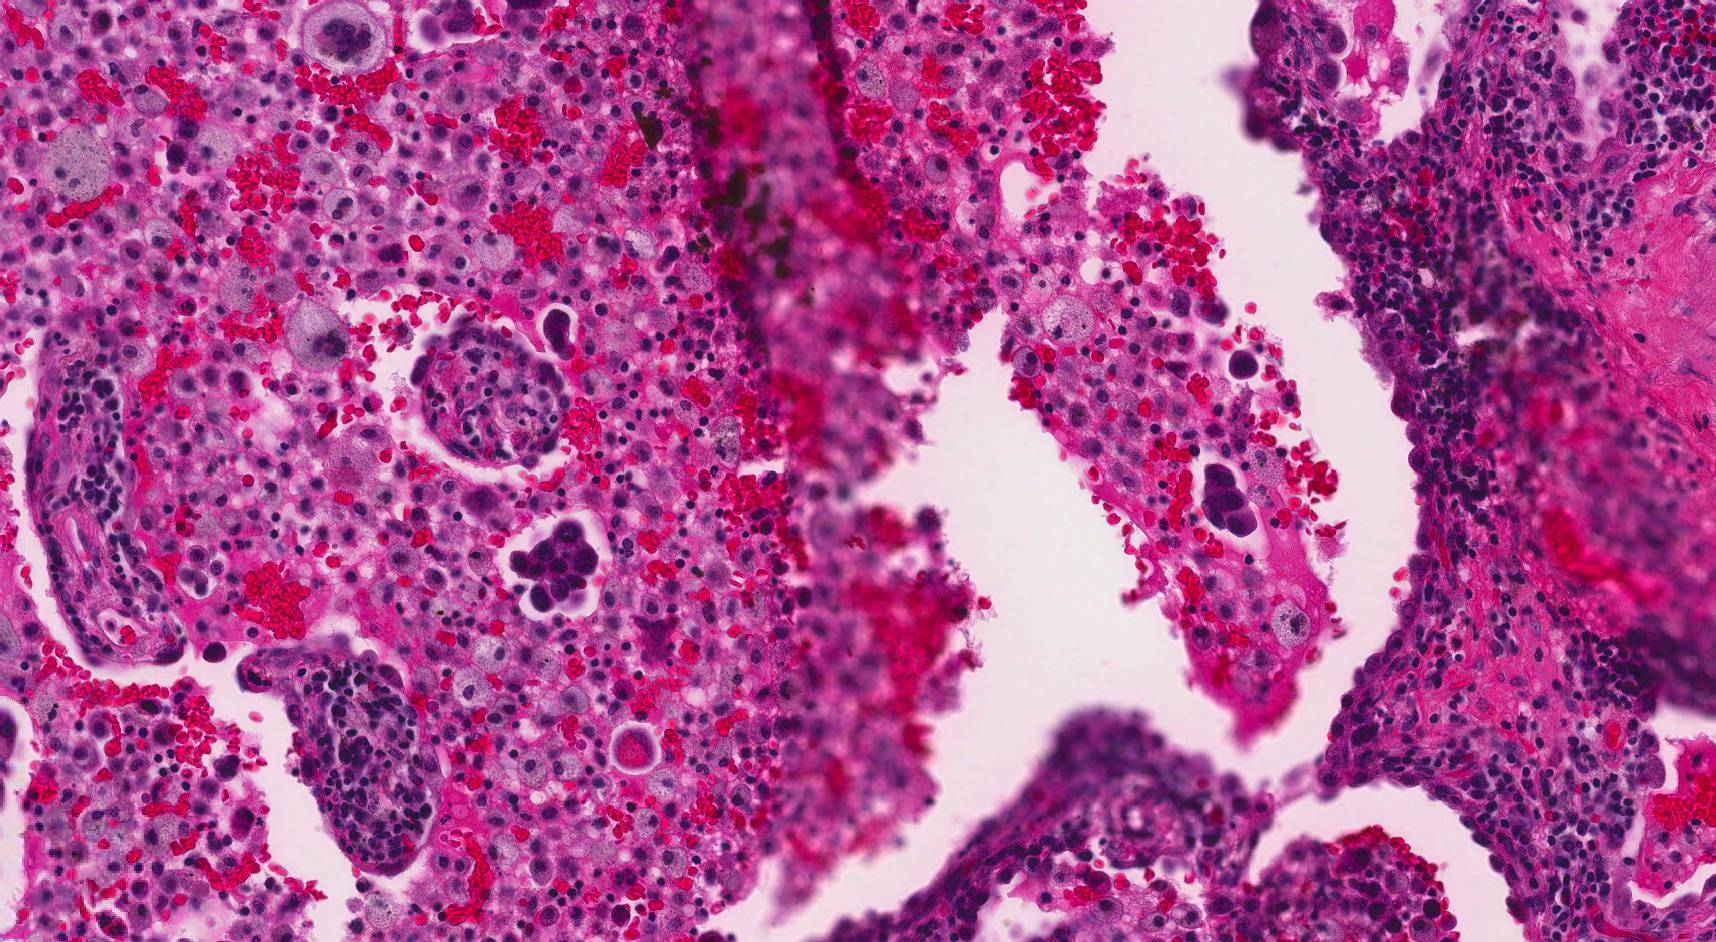stas: (508, 521, 601, 614), (1199, 462, 1258, 537)
